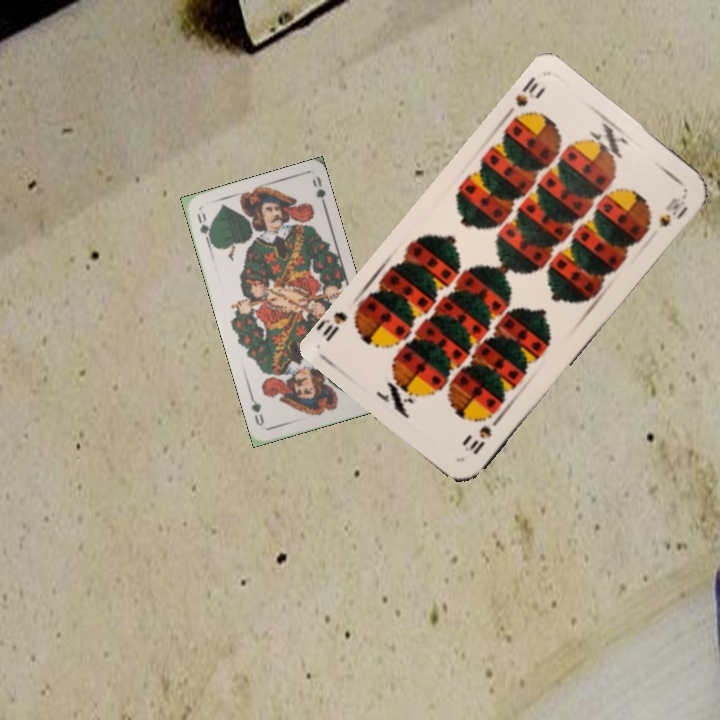GO: (193, 208, 216, 247)
S10: (460, 412, 504, 458), (511, 72, 548, 110)
